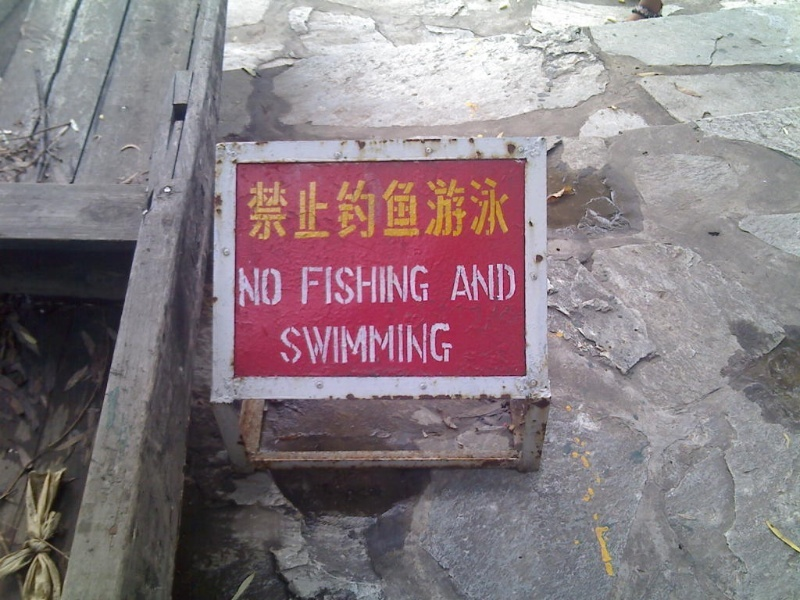text: (257, 175, 272, 243), (273, 175, 288, 243), (289, 175, 304, 243), (305, 175, 320, 243), (321, 175, 336, 243), (337, 175, 352, 243), (353, 175, 368, 243), (369, 175, 384, 243), (385, 175, 400, 243), (401, 175, 416, 243), (417, 175, 432, 243), (433, 175, 448, 243), (449, 175, 464, 243), (465, 175, 480, 243), (481, 175, 496, 243), (497, 175, 512, 243), (243, 175, 256, 243), (289, 322, 304, 368), (305, 322, 320, 368), (321, 322, 336, 368), (337, 322, 352, 368), (353, 322, 368, 368), (369, 322, 384, 368), (385, 322, 400, 368), (401, 322, 416, 368), (417, 322, 432, 368), (433, 322, 448, 368), (241, 267, 256, 308), (257, 267, 272, 308), (275, 322, 288, 368), (305, 266, 320, 304), (321, 266, 336, 304), (337, 266, 352, 304), (353, 266, 368, 304), (369, 266, 384, 304), (385, 266, 400, 304), (401, 266, 416, 304), (417, 266, 432, 304), (465, 264, 480, 302), (481, 264, 496, 302), (497, 264, 512, 302), (450, 264, 464, 302), (273, 267, 283, 308), (297, 266, 304, 304), (449, 322, 454, 368), (235, 267, 240, 308), (513, 264, 518, 302), (433, 266, 435, 304), (513, 175, 514, 243)
